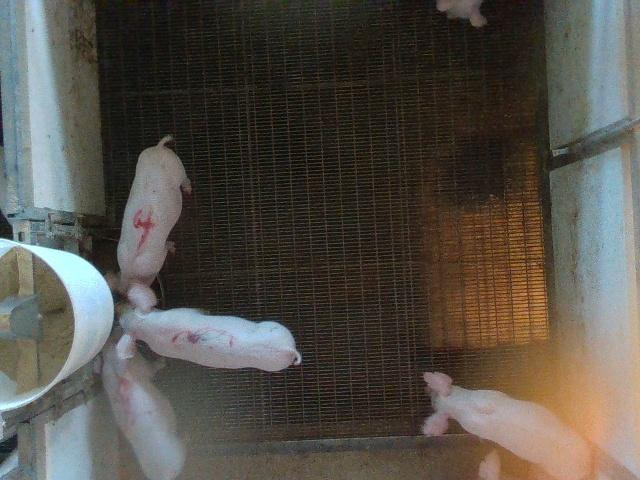pig-3: (116, 282, 301, 371)
pig-4: (118, 135, 191, 293)
pig-5: (102, 339, 185, 478)
